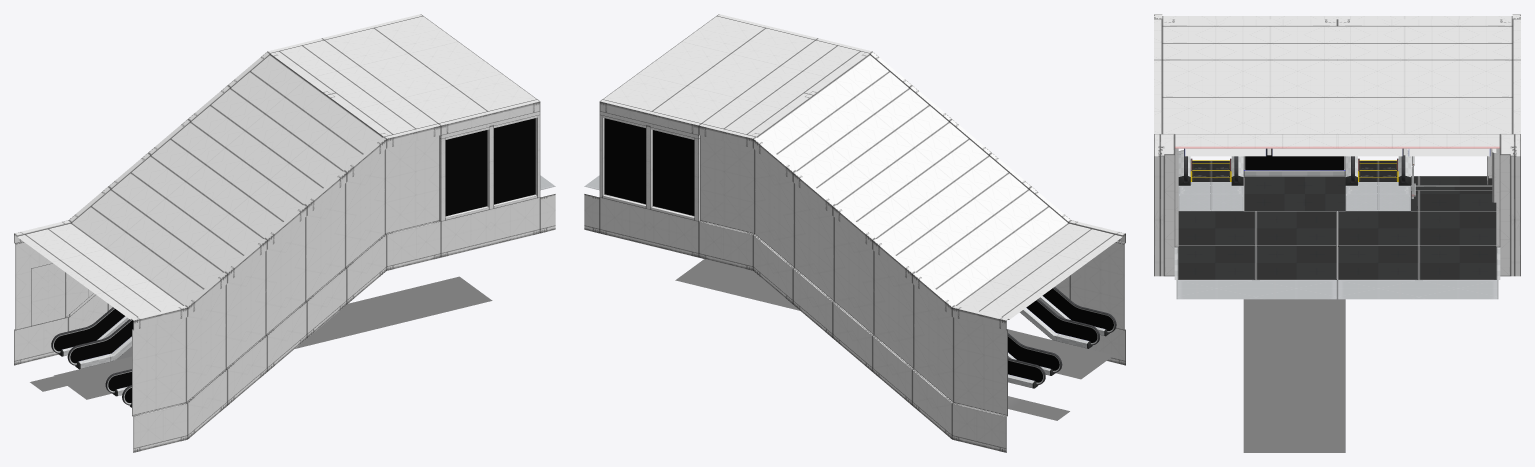
File: AirportGangway_L_Near.fbx
3 renders of one model, left to right at view 1: azimuth 30°, elevation 25°; view 2: azimuth 150°, elevation 25°; view 3: azimuth 270°, elevation 25°, orthographic. The views are drawn at different scales.
Visible parts, largest first — view 1: gangway exterior.001, gangway interior.001, 1000 escalator.006, 1000 escalator.005; view 2: gangway exterior.001, gangway interior.001, 1000 escalator.005, 1000 escalator.006; view 3: gangway interior.001, gangway exterior.001, 1000 escalator.005, 1000 escalator.006.
Part boxes in pixels (left/top/right/bottom): gangway exterior.001: left=14, top=14, right=555, bottom=452; gangway interior.001: left=30, top=111, right=555, bottom=399; 1000 escalator.006: left=51, top=307, right=133, bottom=369; 1000 escalator.005: left=105, top=369, right=131, bottom=407; gangway exterior.001: left=584, top=14, right=1125, bottom=452; gangway interior.001: left=584, top=111, right=1113, bottom=420; 1000 escalator.005: left=1020, top=287, right=1116, bottom=348; 1000 escalator.006: left=1008, top=333, right=1062, bottom=388; gangway interior.001: left=1154, top=134, right=1520, bottom=452; gangway exterior.001: left=1154, top=14, right=1520, bottom=134; 1000 escalator.005: left=1178, top=148, right=1243, bottom=185; 1000 escalator.006: left=1345, top=148, right=1410, bottom=185.
Size of the model in its own units: 19.48 by 9 by 10.5.
